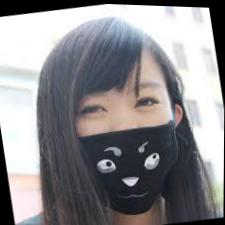WRONG: (60, 62, 195, 222)
